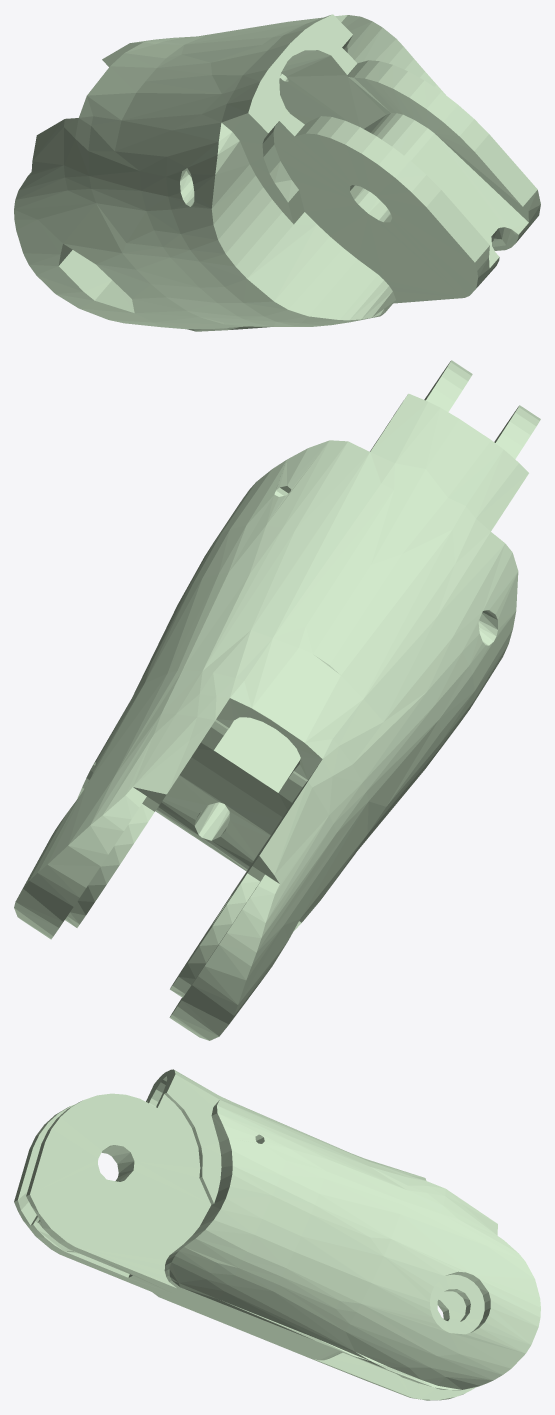
Rendered from i02_rightHand_majeurePhal_visual.obj.light.glb.
3 renders of one model, top to bottom at view 1: azimuth 30°, elevation 25°; view 2: azimuth 150°, elevation 25°; view 3: azimuth 270°, elevation 25°, orthographic. The views are drawn at different scales.
Size of the model in its own units: 0.2036 by 0.3365 by 0.5012.
